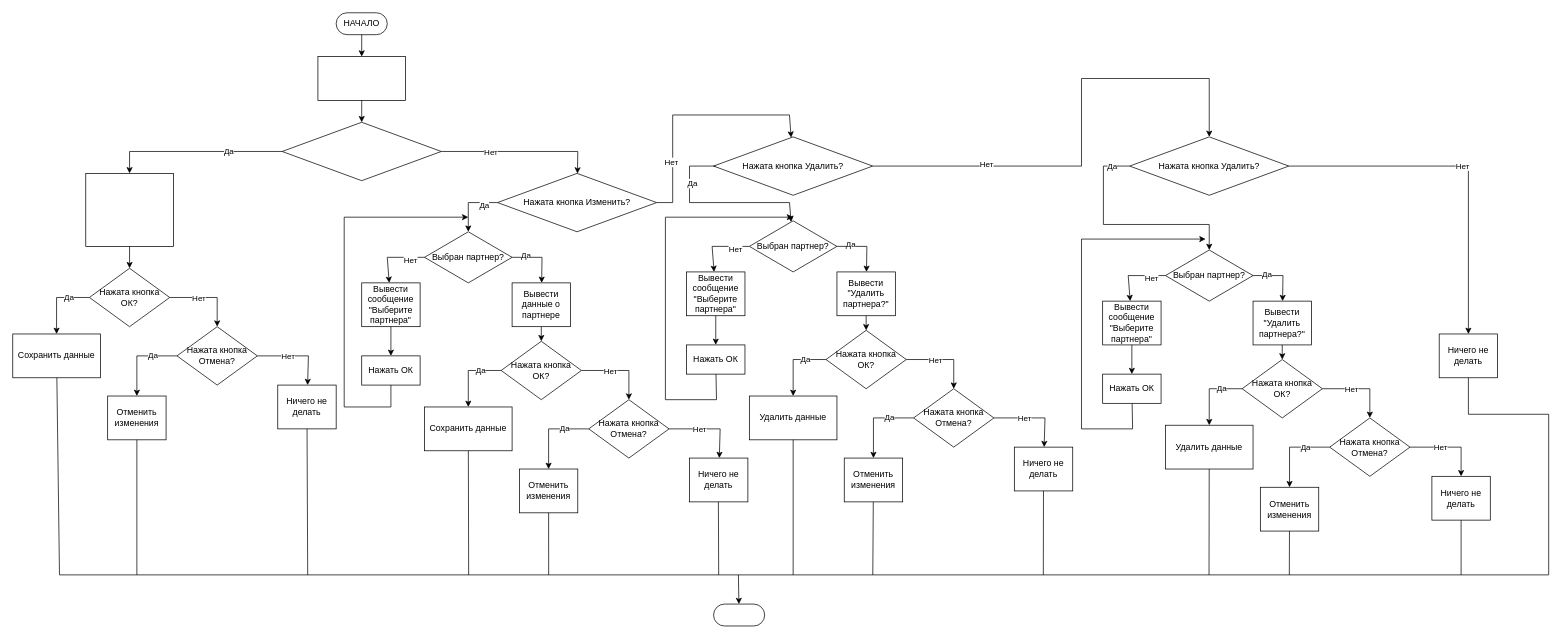
Image size: 1562x639. Some labels were removed from this diagram. The box of each missing label's shape, as (x1, y1, x2, y2) in pixels:
Выбор типа партнера, заполнение наименования, директора и телефон: (85, 173, 173, 246)
Загрузить главное окно со списком партнеров: (317, 56, 406, 100)
КОНЕЦ: (713, 603, 765, 626)
Нажата кнопка Добавить?: (281, 122, 441, 181)
